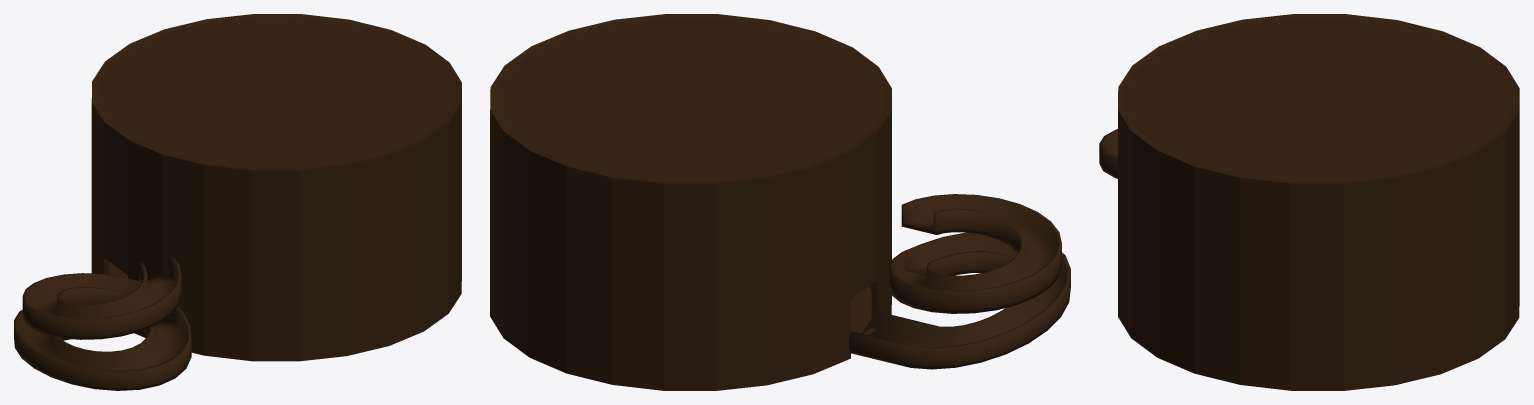
File: Spiral Terrain.fbx
The picture shows the model from 3 angles, left to right: view 1: azimuth 30°, elevation 25°; view 2: azimuth 150°, elevation 25°; view 3: azimuth 270°, elevation 25°; orthographic projection. The views are drawn at different scales.
Parts seen in each view (by area): view 1: Cave; view 2: Cave; view 3: Cave.
Part boxes in pixels (x1,y1,x2,y2): Cave: [14, 14, 461, 390]; Cave: [490, 14, 1070, 390]; Cave: [1099, 14, 1519, 390].
Bounding box in the file's own units: 5358 × 2183 × 4014.
